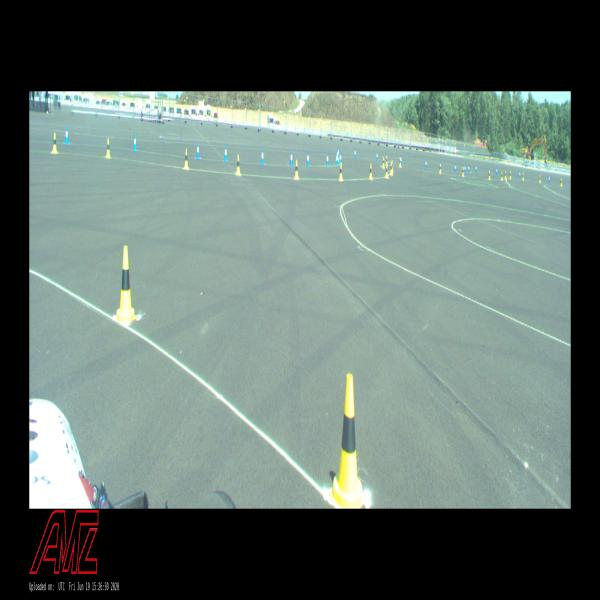blue_cone: (65, 126, 69, 144), (224, 145, 228, 162), (196, 143, 200, 159), (133, 134, 137, 150), (306, 152, 310, 166), (290, 151, 293, 166), (261, 149, 264, 164), (326, 154, 329, 166), (339, 153, 342, 164), (336, 153, 338, 165), (425, 159, 427, 168), (354, 149, 356, 158), (464, 165, 466, 173), (454, 164, 456, 172), (468, 164, 470, 172), (376, 153, 378, 161), (400, 156, 402, 164), (519, 170, 521, 178), (496, 167, 498, 175), (548, 176, 550, 183), (338, 148, 339, 158), (476, 164, 477, 172)
yellow_cone: (328, 374, 366, 508), (115, 245, 137, 325), (52, 133, 58, 153), (106, 138, 111, 158), (294, 160, 299, 179), (184, 148, 188, 170), (236, 155, 240, 175), (339, 164, 343, 180), (384, 163, 388, 177), (369, 164, 372, 179), (390, 162, 393, 175), (382, 157, 385, 168), (385, 155, 388, 166), (488, 170, 491, 180), (509, 171, 512, 179), (560, 178, 563, 186), (504, 171, 507, 179), (399, 157, 401, 168), (462, 167, 464, 177), (439, 164, 441, 174), (539, 174, 541, 182), (501, 172, 503, 180), (522, 173, 524, 180)
